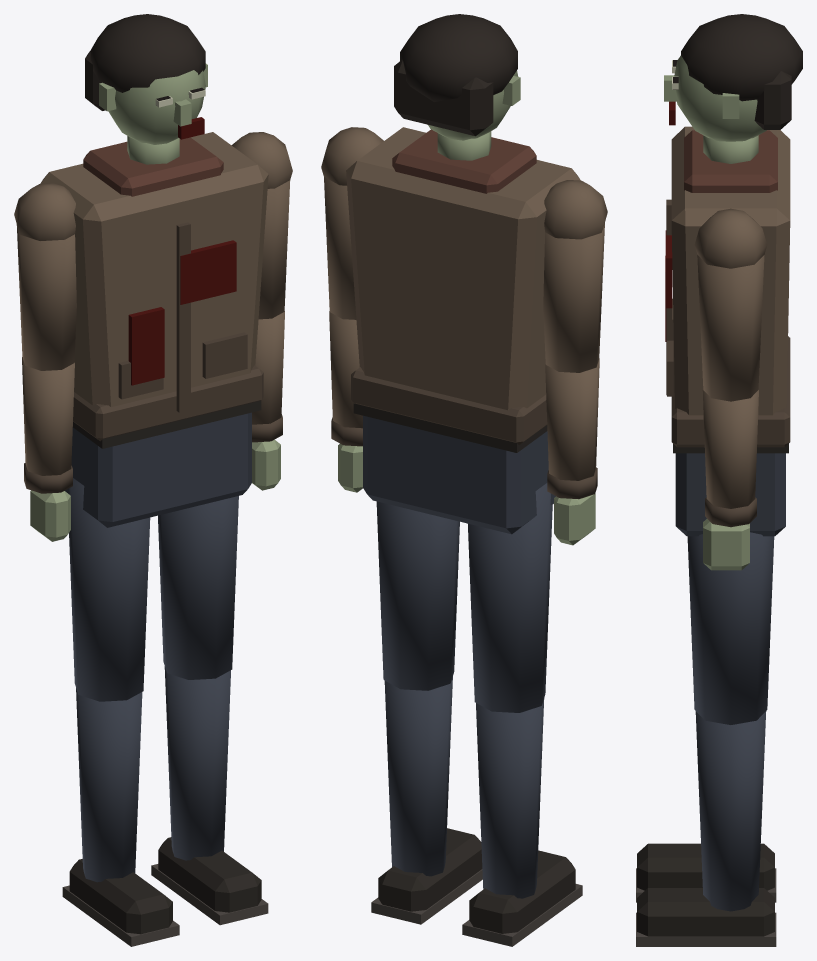
The model's file is zombie_a.glb.
The picture shows the model from 3 angles, left to right: view 1: azimuth 30°, elevation 25°; view 2: azimuth 150°, elevation 25°; view 3: azimuth 270°, elevation 25°; orthographic projection. The views are drawn at different scales.
Visible parts, largest first — view 1: Torso, ShinR, ShinL, Hips, LegR, Head, LegL, ArmR, ForearmR, ArmL, ForearmL; view 2: Torso, ShinR, Hips, ShinL, LegR, Head, LegL, ArmR, ForearmR, ArmL, ForearmL; view 3: Torso, ShinL, Head, LegL, ArmL, ForearmL, Hips, ShinR.
Boxes of the visible parts, <box> form: Torso: <box>40,132,268,441</box>; ShinR: <box>62,688,179,946</box>; ShinL: <box>151,666,268,925</box>; Hips: <box>65,400,261,527</box>; LegR: <box>69,478,150,701</box>; Head: <box>85,14,207,164</box>; LegL: <box>158,496,238,679</box>; ArmR: <box>14,183,76,370</box>; ForearmR: <box>22,357,74,541</box>; ArmL: <box>231,132,292,319</box>; ForearmL: <box>252,311,284,490</box>; Torso: <box>346,127,580,444</box>; ShinR: <box>462,698,582,946</box>; Hips: <box>353,403,555,534</box>; ShinL: <box>371,676,482,924</box>; LegR: <box>468,483,552,712</box>; Head: <box>394,14,520,160</box>; LegL: <box>376,501,459,690</box>; ArmR: <box>543,180,607,372</box>; ForearmR: <box>545,358,599,545</box>; ArmL: <box>321,127,383,319</box>; ForearmL: <box>329,311,362,492</box>; Torso: <box>665,126,790,447</box>; ShinL: <box>636,711,776,946</box>; Head: <box>664,14,802,163</box>; LegL: <box>687,532,774,724</box>; ArmL: <box>694,208,767,401</box>; ForearmL: <box>702,390,758,570</box>; Hips: <box>673,443,788,536</box>; ShinR: <box>636,843,776,902</box>.
Size of the model in its own units: 0.582 by 1.78 by 0.3026.
